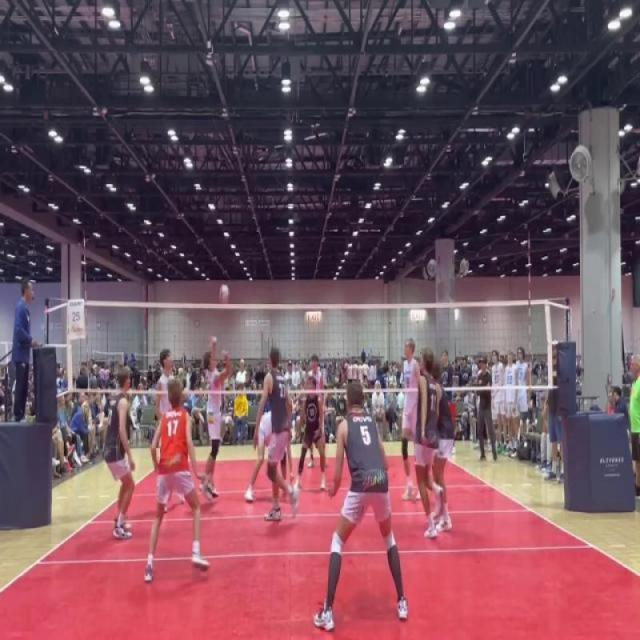volleyball: (216, 280, 232, 303)
